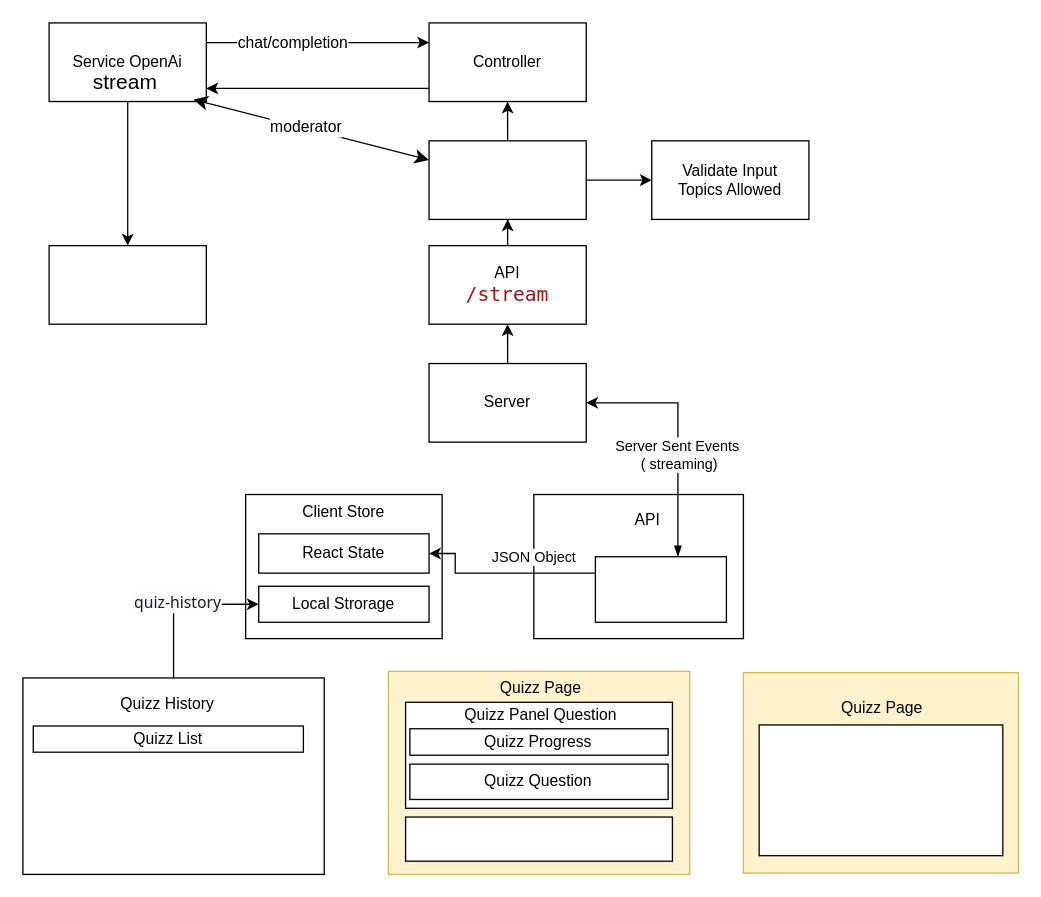
Some shapes in this 1041 by 897 pixel diagram are drawn without their labels. Each missing label, with the centre of its shape:
"Prompt" belongs at pixel 127 284.
"Quiz result" belongs at pixel 880 790.
"Quizz Answers" belongs at pixel 538 838.
"Stream Quizz" belongs at pixel 660 588.
"Validator" belongs at pixel 507 179.
